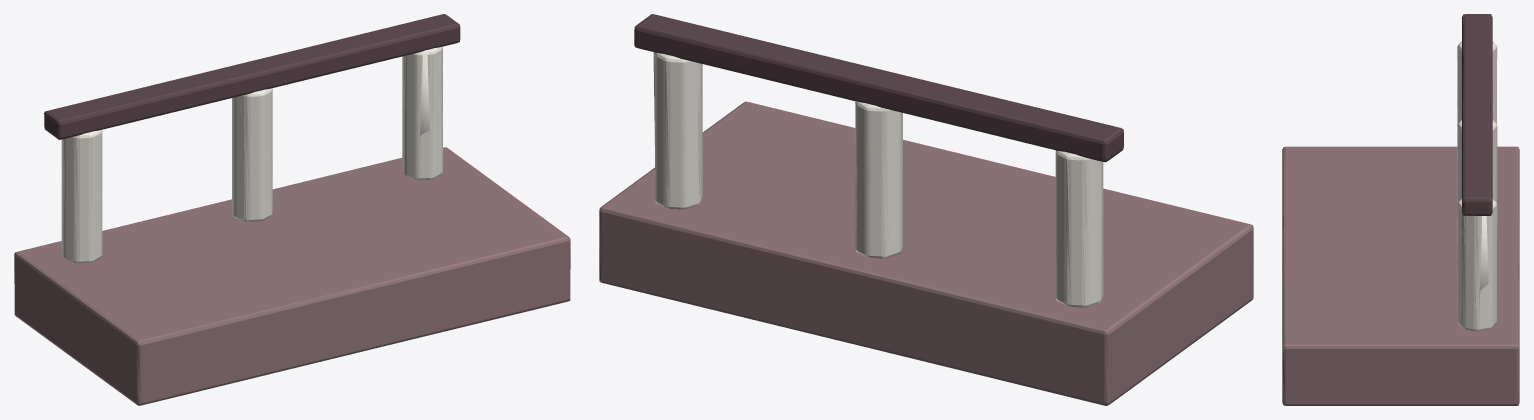
File: SM_Neroberg_Vista.fbx
3 renders of one model, left to right at view 1: azimuth 30°, elevation 25°; view 2: azimuth 150°, elevation 25°; view 3: azimuth 270°, elevation 25°, orthographic. The views are drawn at different scales.
Parts seen in each view (by area): view 1: LOD0_SM_Neroberg_Vista, LOD1_SM_Neroberg_Vista, LOD3_SM_Neroberg_Vista, LOD2_SM_Neroberg_Vista; view 2: LOD0_SM_Neroberg_Vista, LOD1_SM_Neroberg_Vista, LOD2_SM_Neroberg_Vista; view 3: LOD0_SM_Neroberg_Vista, LOD1_SM_Neroberg_Vista, LOD3_SM_Neroberg_Vista, LOD2_SM_Neroberg_Vista.
Boxes of the visible parts, x1,y1,x2,y2 form: LOD0_SM_Neroberg_Vista: (14, 14, 570, 405); LOD1_SM_Neroberg_Vista: (14, 14, 570, 405); LOD3_SM_Neroberg_Vista: (15, 25, 570, 405); LOD2_SM_Neroberg_Vista: (14, 14, 570, 405); LOD0_SM_Neroberg_Vista: (599, 14, 1253, 405); LOD1_SM_Neroberg_Vista: (599, 14, 1253, 405); LOD2_SM_Neroberg_Vista: (599, 14, 1253, 405); LOD0_SM_Neroberg_Vista: (1282, 14, 1519, 405); LOD1_SM_Neroberg_Vista: (1282, 14, 1519, 405); LOD3_SM_Neroberg_Vista: (1283, 44, 1518, 405); LOD2_SM_Neroberg_Vista: (1283, 14, 1518, 405).
Size of the model in its own units: 2.8 by 1.31 by 1.4.
